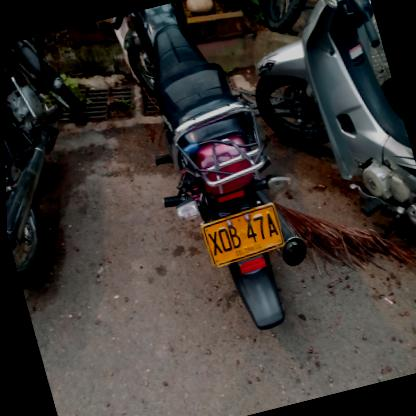placa: (195, 199, 288, 271)
